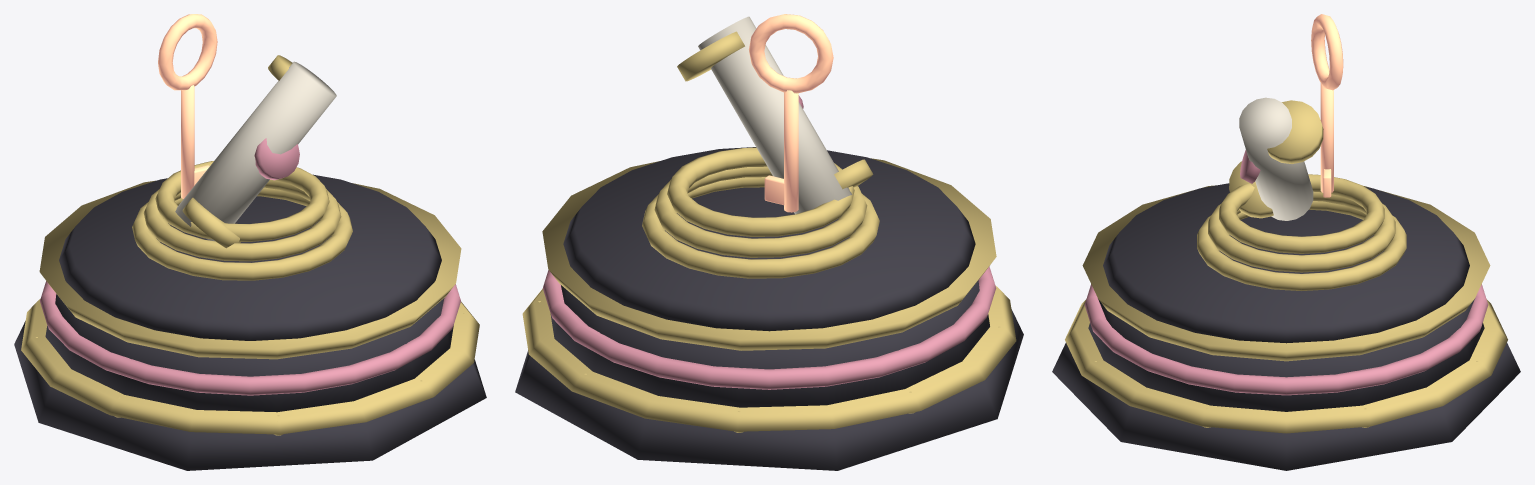
3 views of the same model, side by side, from view 1: azimuth 30°, elevation 25°; view 2: azimuth 150°, elevation 25°; view 3: azimuth 270°, elevation 25° (orthographic). The views are drawn at different scales.
Parts seen in each view (by area): view 1: VC-003_The_Nurse; view 2: VC-003_The_Nurse; view 3: VC-003_The_Nurse.
Part boxes in pixels (x1,y1,x2,y2): VC-003_The_Nurse: (14, 14, 486, 470); VC-003_The_Nurse: (515, 14, 1023, 470); VC-003_The_Nurse: (1052, 14, 1520, 470).
Bounding box in the file's own units: 0.92 × 0.7248 × 0.92.
